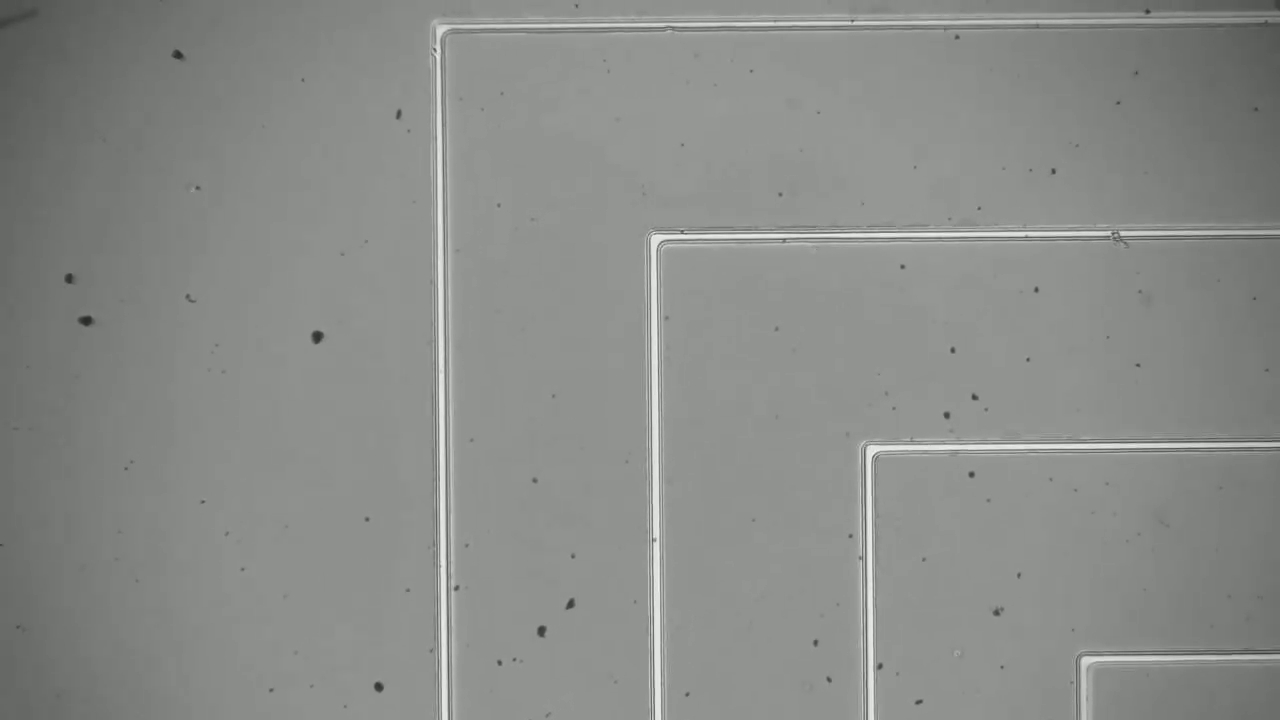stains_enbedded: (1100, 217, 1137, 259)
